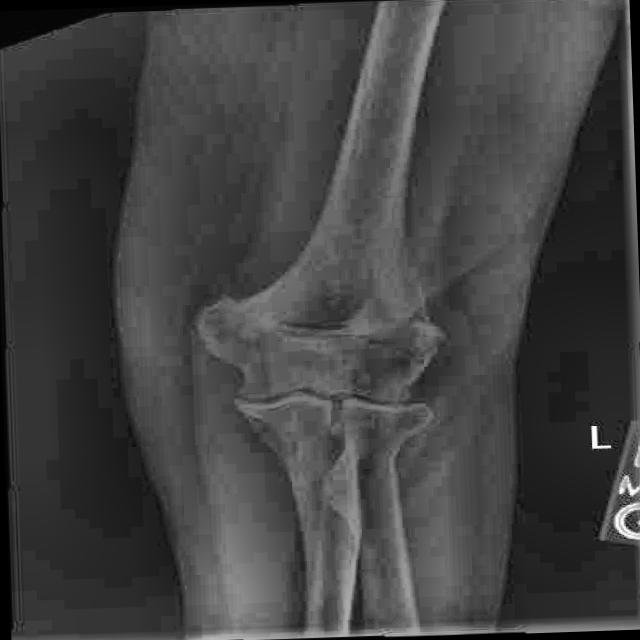elbow positive: (174, 269, 314, 355)
